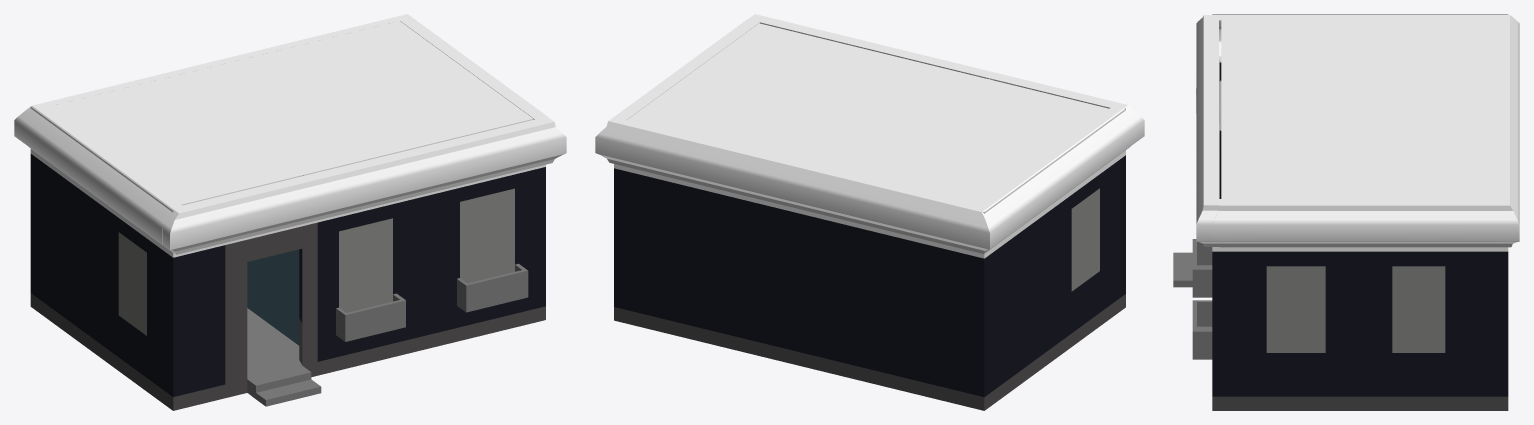
The model's file is one_story_no_door.obj.
3 renders of one model, left to right at view 1: azimuth 30°, elevation 25°; view 2: azimuth 150°, elevation 25°; view 3: azimuth 270°, elevation 25°, orthographic. The views are drawn at different scales.
Parts seen in each view (by area): view 1: pCube2; view 2: pCube2; view 3: pCube2.
Part boxes in pixels (bbox=[...]): pCube2: bbox=[14, 14, 566, 410]; pCube2: bbox=[595, 14, 1144, 410]; pCube2: bbox=[1173, 14, 1519, 410].
Size of the model in its own units: 4.5 by 2.17 by 3.27.
